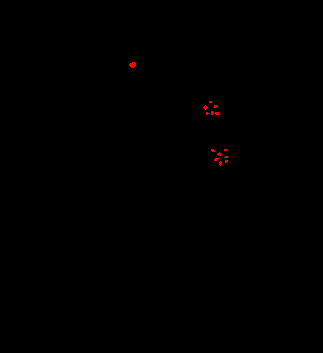Target: (129, 62, 136, 68), (203, 105, 208, 110), (217, 152, 221, 156), (215, 112, 220, 115), (214, 158, 219, 161), (219, 161, 222, 166), (211, 111, 214, 115), (211, 149, 215, 152), (214, 105, 217, 108), (206, 112, 209, 115), (225, 160, 228, 163), (224, 156, 228, 158), (209, 101, 212, 103), (224, 149, 227, 151)
